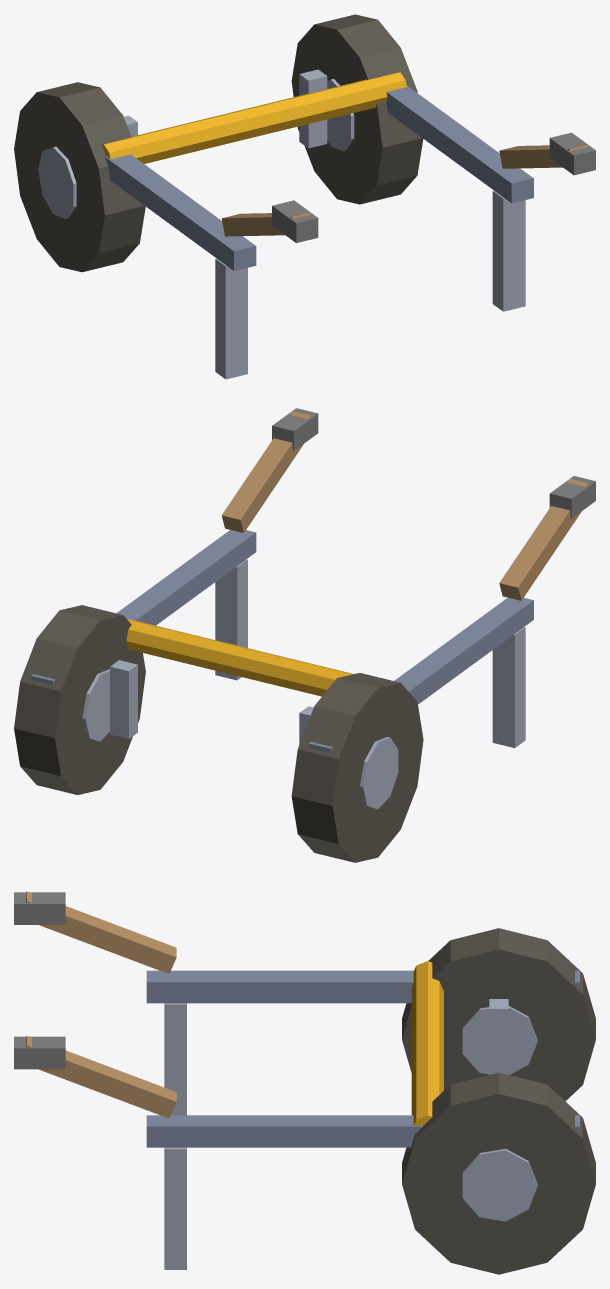
Rendered from dumper_body.glb.
The picture shows the model from 3 angles, top to bottom: view 1: azimuth 30°, elevation 25°; view 2: azimuth 150°, elevation 25°; view 3: azimuth 270°, elevation 25°; orthographic projection. The views are drawn at different scales.
Parts seen in each view (by area): view 1: dumper_body; view 2: dumper_body; view 3: dumper_body.
Part boxes in pixels (x1=…): dumper_body: x1=14, y1=14, x2=595, y2=379; dumper_body: x1=14, y1=408, x2=595, y2=862; dumper_body: x1=14, y1=891, x2=595, y2=1274.
Bounding box in the file's own units: 1.2 × 0.7415 × 1.75.
